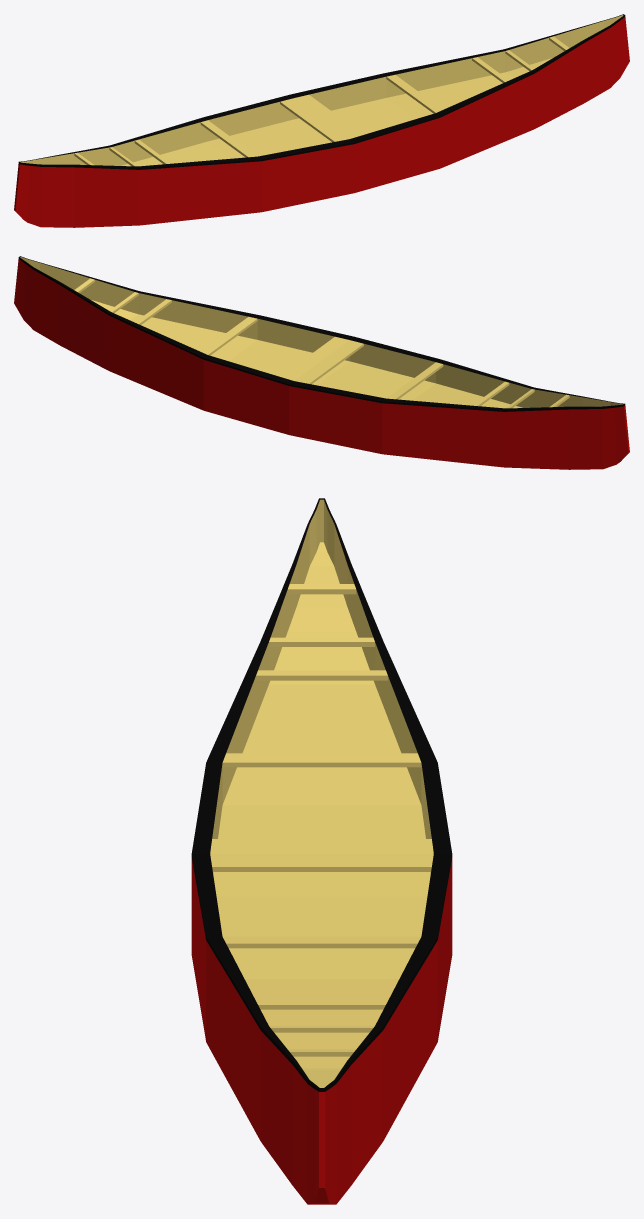
Rendered from canoe.lod0.glb.
3 views of the same model, one above another, from view 1: azimuth 30°, elevation 25°; view 2: azimuth 150°, elevation 25°; view 3: azimuth 270°, elevation 25° (orthographic). The views are drawn at different scales.
Visible parts, largest first — view 1: Object_4, Object_5; view 2: Object_4, Object_5; view 3: Object_5, Object_4.
Part boxes in pixels (x1,y1,x2,y2): Object_4: (14,14,629,227); Object_5: (20,15,623,166); Object_4: (14,256,629,469); Object_5: (20,257,623,408); Object_5: (210,499,433,1087); Object_4: (191,498,452,1204).
Size of the model in its own units: 4.6 by 0.5784 by 0.8446.
